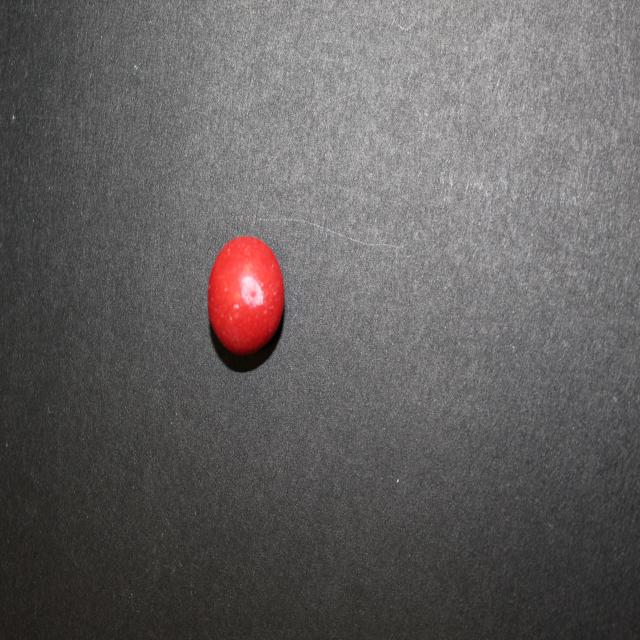smartie: (208, 236, 284, 354)
